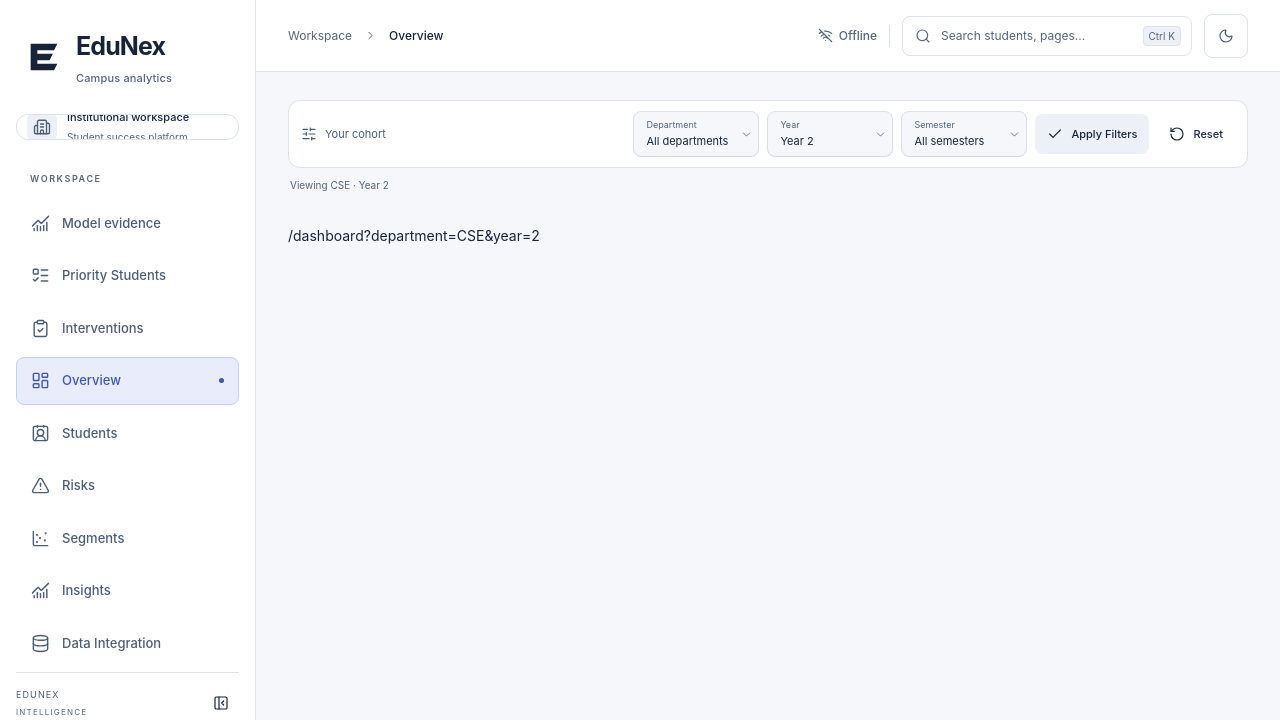
Test: workspace navigation › collapses the sidebar without losing accessible destinations
Step 1. Click the button named "Collapse sidebar" → (221, 703), box [203,685,239,719]
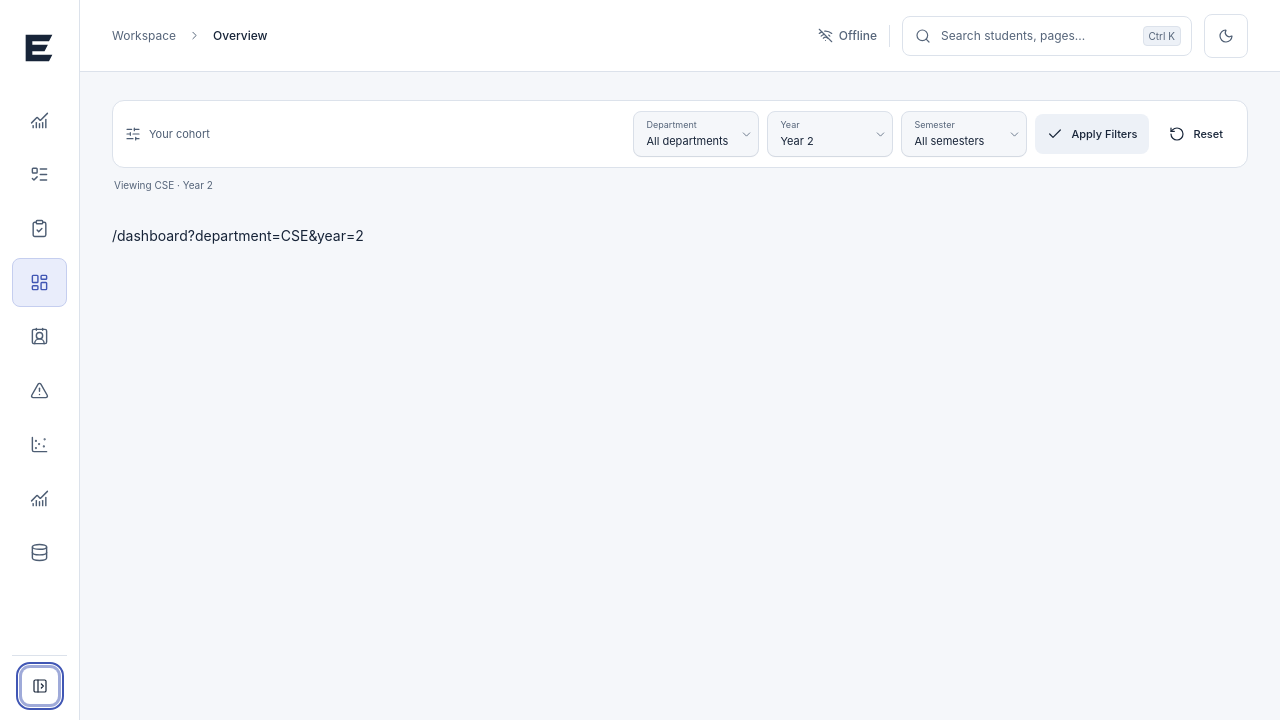
Now the button named "Expand sidebar" is shown
Step 2. Click the button named "Expand sidebar" → (40, 686), box [22,668,58,704]
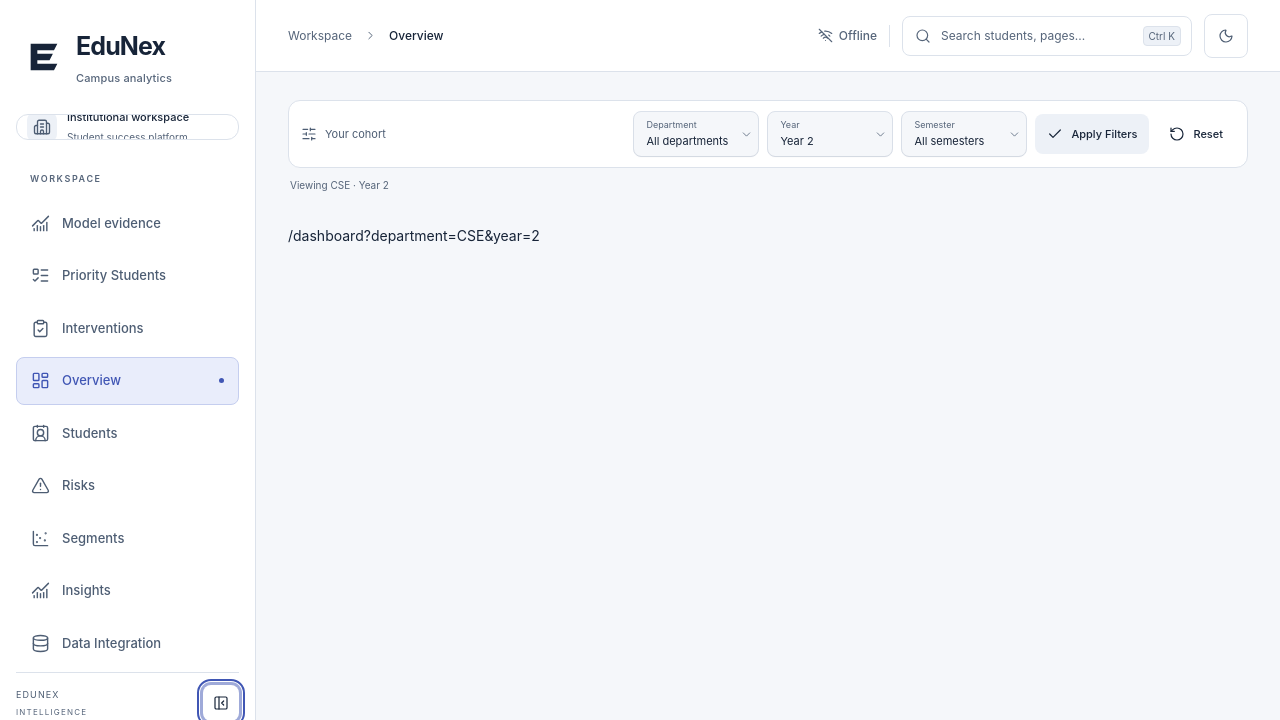
Now the button named "Collapse sidebar" is shown, box [203,685,239,719]
